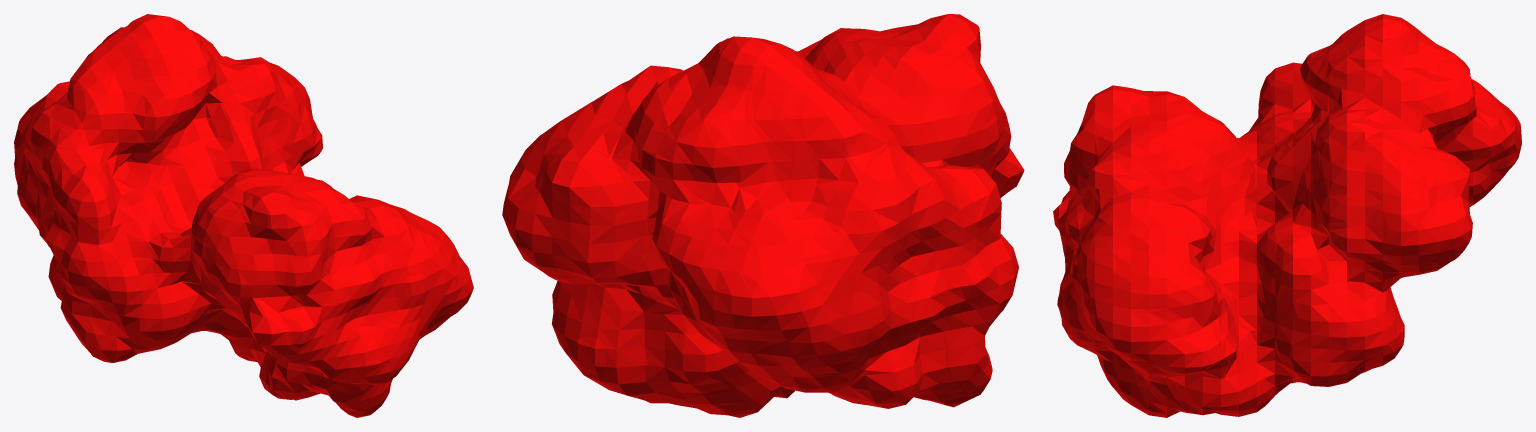
File: ybgJ_coarse.dae
The picture shows the model from 3 angles, left to right: view 1: azimuth 30°, elevation 25°; view 2: azimuth 150°, elevation 25°; view 3: azimuth 270°, elevation 25°; orthographic projection. The views are drawn at different scales.
Parts seen in each view (by area): view 1: ybgJ; view 2: ybgJ; view 3: ybgJ.
Boxes of the visible parts, <box> form: ybgJ: <box>14,14,473,417</box>; ybgJ: <box>502,14,1024,417</box>; ybgJ: <box>1053,14,1521,417</box>.
Size of the model in its own units: 82.35 by 79.84 by 97.38.
